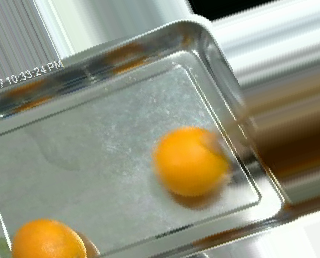Orange: (154, 126, 228, 197)
